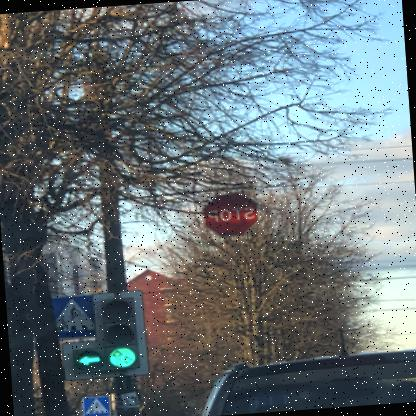crosswalk: (48, 294, 96, 340), (83, 392, 113, 415)
stop: (204, 192, 262, 238)
trafficlight: (69, 295, 144, 373)
